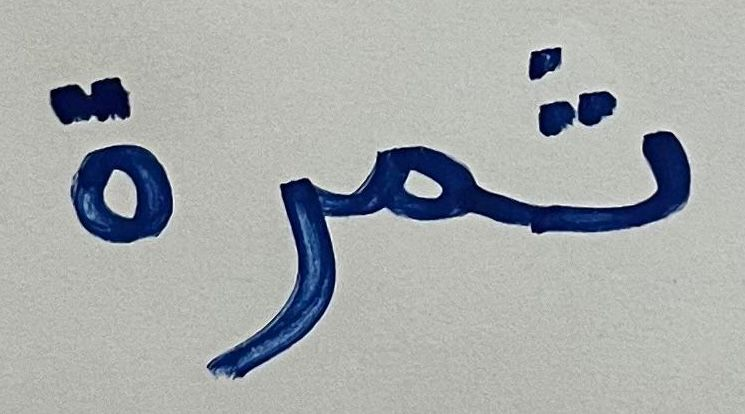meem: (350, 57, 488, 260)
reh: (189, 139, 344, 388)
teh_marbota: (33, 42, 184, 260)
theh: (495, 20, 714, 295)
